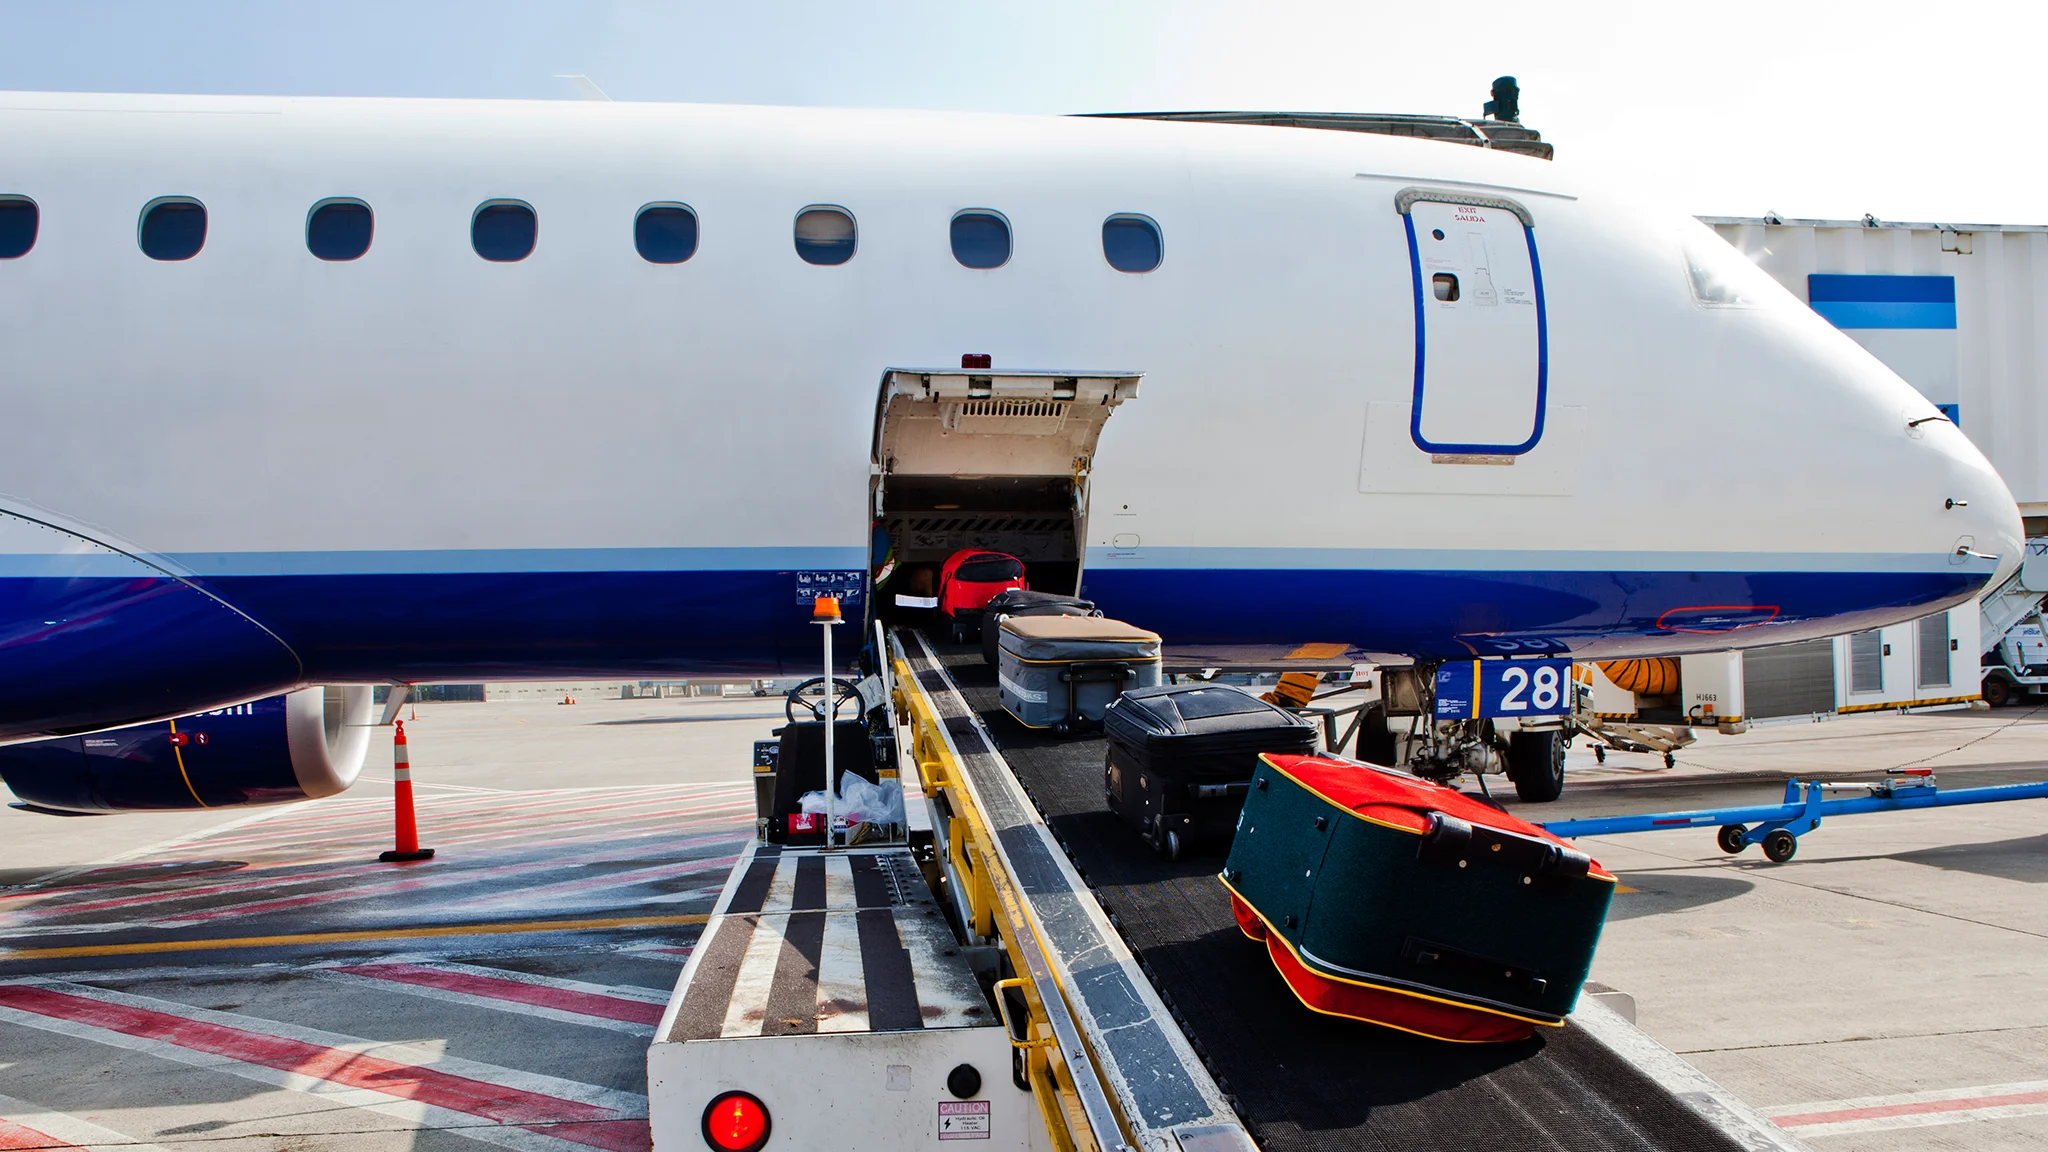baggagetruck: (627, 603, 1812, 1152)
